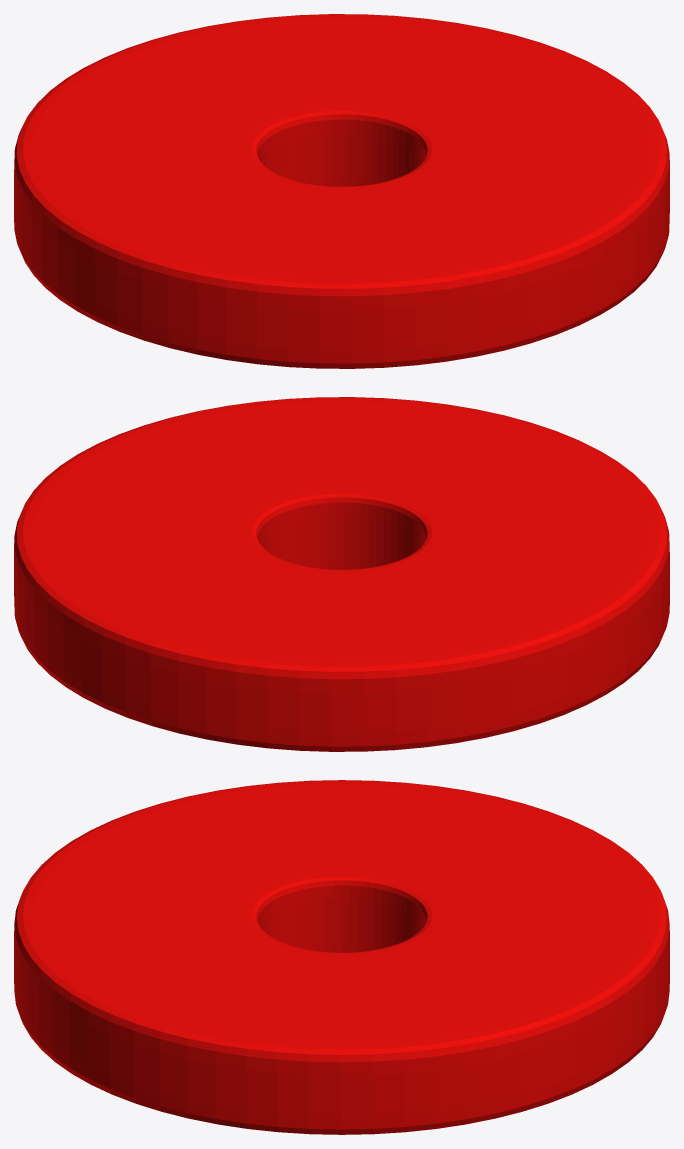
The picture shows the model from 3 angles, top to bottom: view 1: azimuth 30°, elevation 25°; view 2: azimuth 150°, elevation 25°; view 3: azimuth 270°, elevation 25°; orthographic projection.
Bounding box in the file's own units: 0.0459 × 0.00658 × 0.0459.
